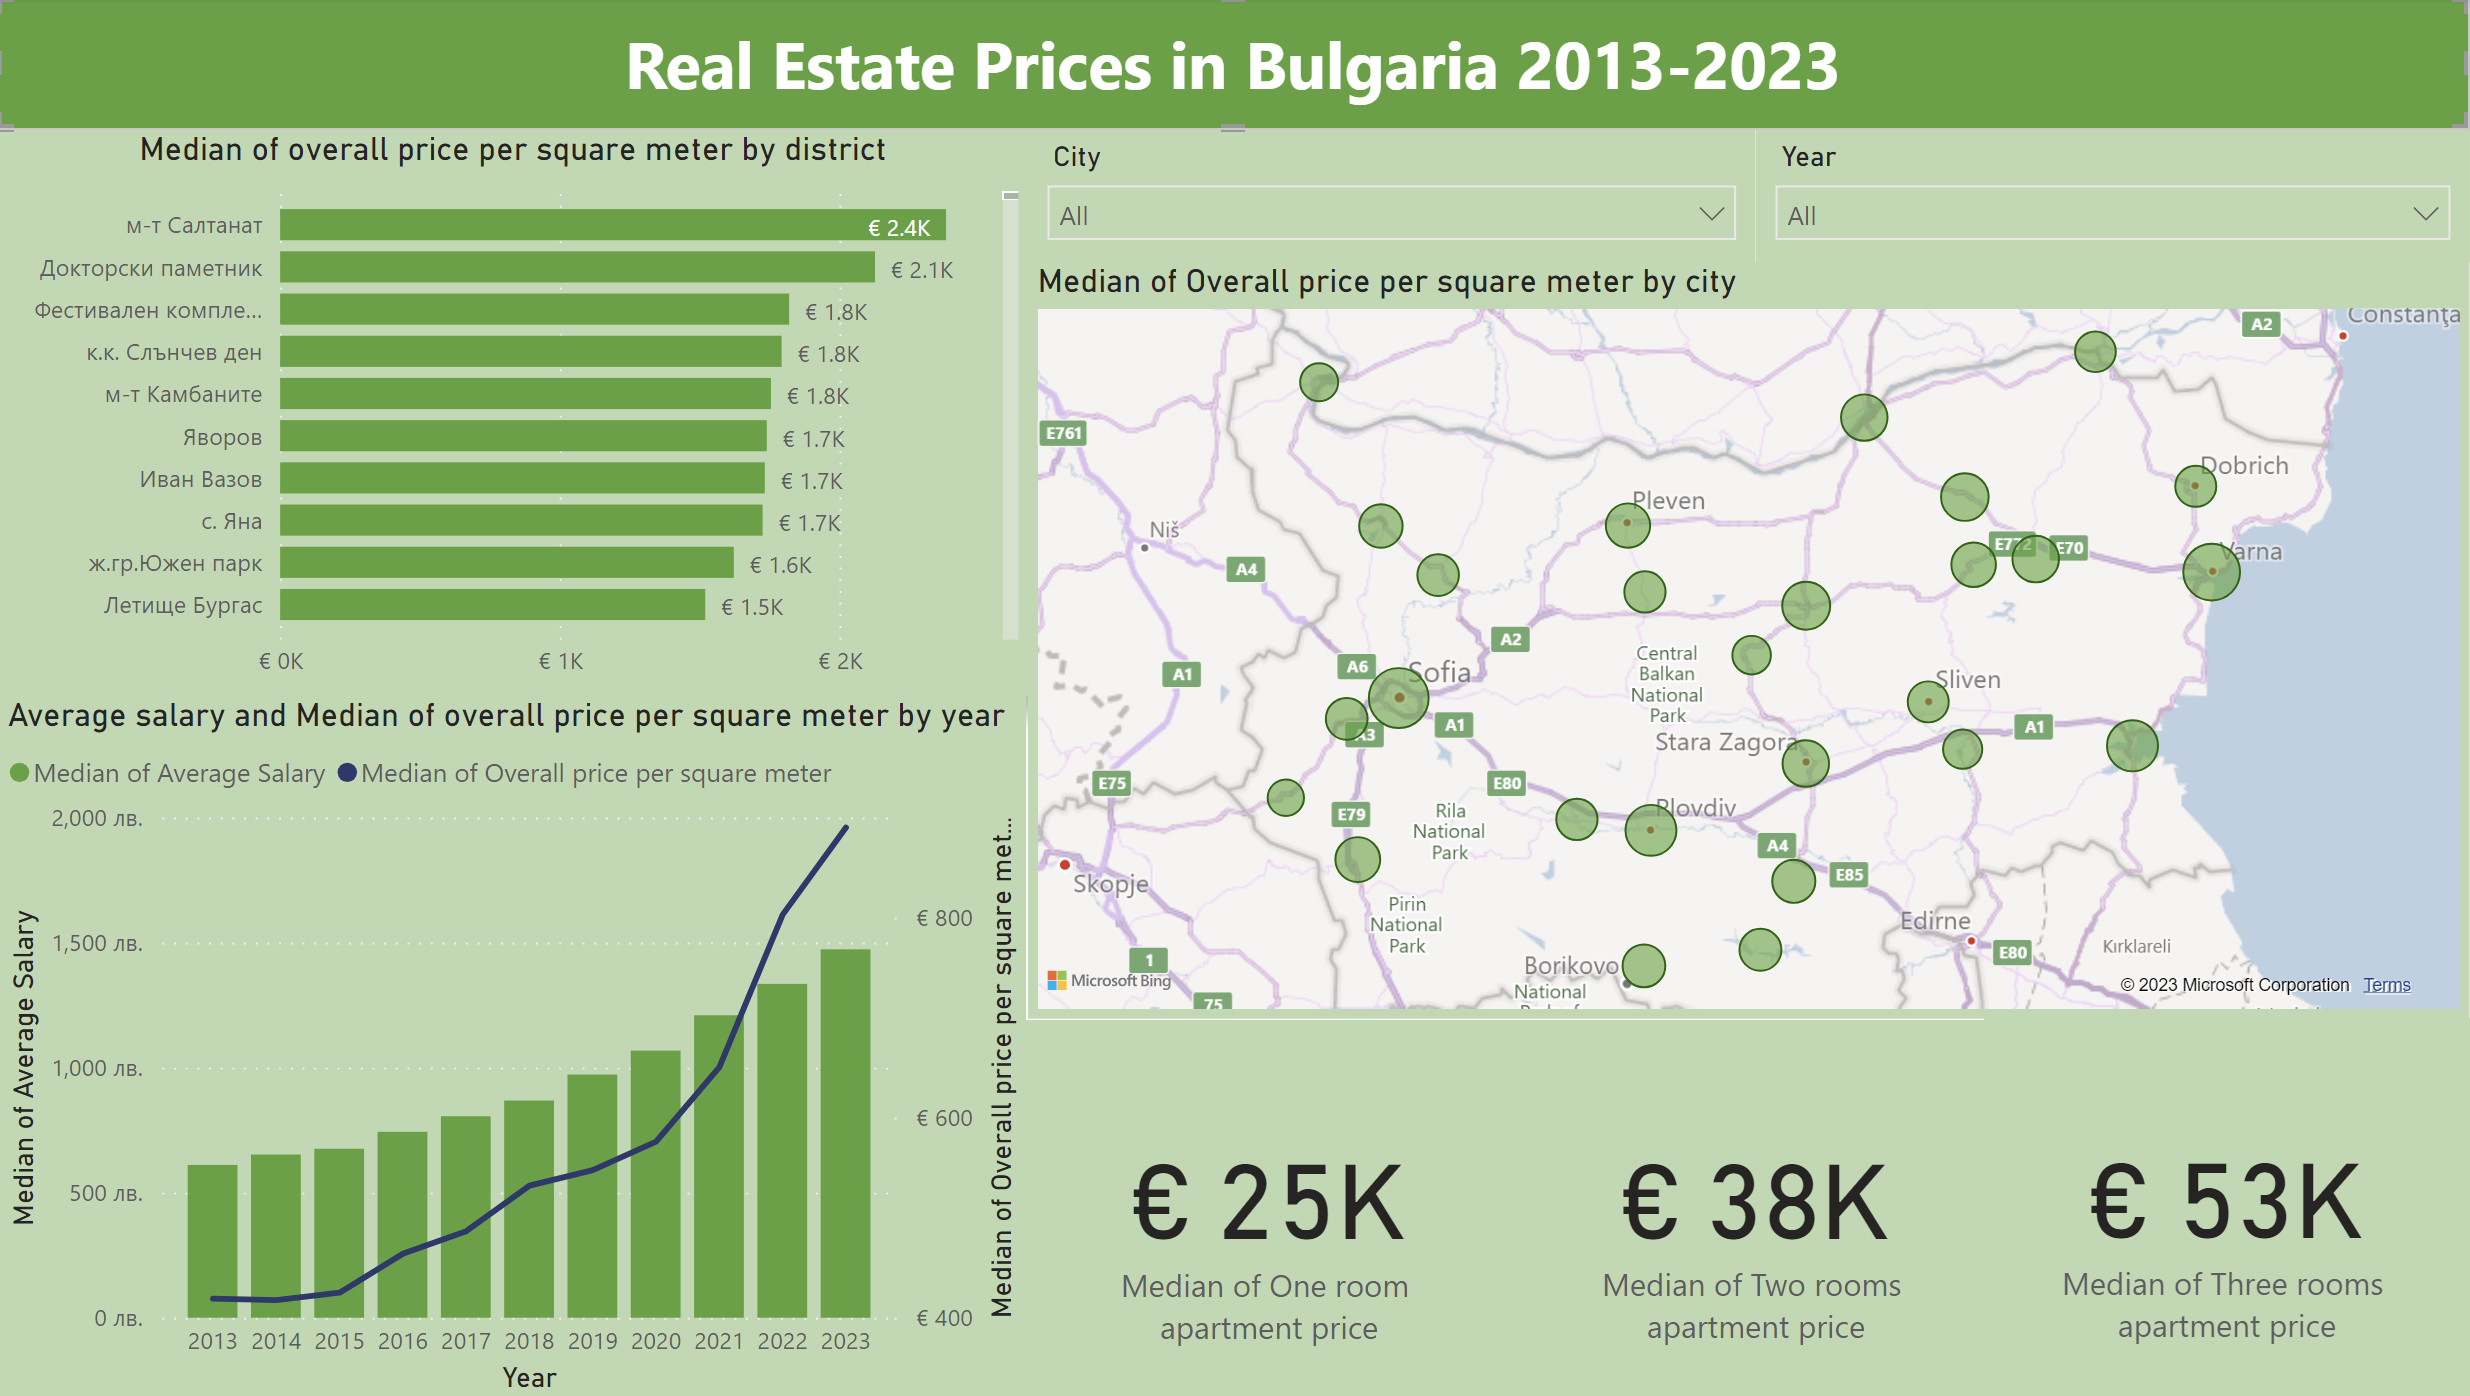

What the dashboard file says about the page in this screenshot:
{"tool":"powerbi","page":{"name":"Page 1","canvas":[1280,720],"ordinal":0},"visuals":[{"type":"barChart","title":"Median of overall price per square meter by district","fields":{"Category":["real_estate_prices.district"],"Y":["real_estate_prices.overall_price_per_square_meter"]},"box":[9.3,68.9,529.5,291],"z":0},{"type":"lineStackedColumnComboChart","title":"Average salary and Median of overall price per square meter by year","fields":{"Category":["average_salary_by_region.year"],"Y":["Average Salary by Region.Average Salary"],"Y2":["Real Estate Prices.Overall price per square meter"]},"box":[9.3,359.8,528.4,362.9],"z":1000},{"type":"slicer","fields":{"Values":["Real Estate Prices.City"]},"box":[538.7,68.9,374.2,67.9],"z":2000},{"type":"map","title":"Median of Overall price per square meter by city","fields":{"Size":["Real Estate Prices.Overall price per square meter"],"Category":["Real Estate Prices.City"]},"box":[539,137,741,389],"z":3000},{"type":"card","fields":{"Values":["Real Estate Prices.One room apartment price"]},"box":[538,526,250,195],"z":4000},{"type":"card","fields":{"Values":["Real Estate Prices.Two rooms apartment price"]},"box":[787.5,526.4,250.9,194.3],"z":5000},{"type":"card","fields":{"Values":["Real Estate Prices.Three rooms apartment price"]},"box":[1030.2,525.4,249.8,195.3],"z":6000},{"type":"shape","box":[8.2,0,1271.8,68.9],"z":7000},{"type":"slicer","fields":{"Values":["Real Estate Prices.Year"]},"box":[913,68.9,367,67.9],"z":8000}]}

Visuals, with their boxes in screenshot pixels (x1, y1, x2, y2), scaled from the page's 1280x720 canvas onto the 2470x1396 screenshot:
"Median of overall price per square meter by district" barChart: crop(18, 134, 1040, 698)
"Average salary and Median of overall price per square meter by year" lineStackedColumnComboChart: crop(18, 698, 1038, 1395)
slicer - Real Estate Prices.City: crop(1040, 134, 1762, 265)
"Median of Overall price per square meter by city" map: crop(1040, 266, 2469, 1020)
card - Real Estate Prices.One room apartment price: crop(1038, 1020, 1521, 1395)
card - Real Estate Prices.Two rooms apartment price: crop(1520, 1021, 2004, 1395)
card - Real Estate Prices.Three rooms apartment price: crop(1988, 1019, 2469, 1395)
shape: crop(16, 0, 2469, 134)
slicer - Real Estate Prices.Year: crop(1762, 134, 2469, 265)
